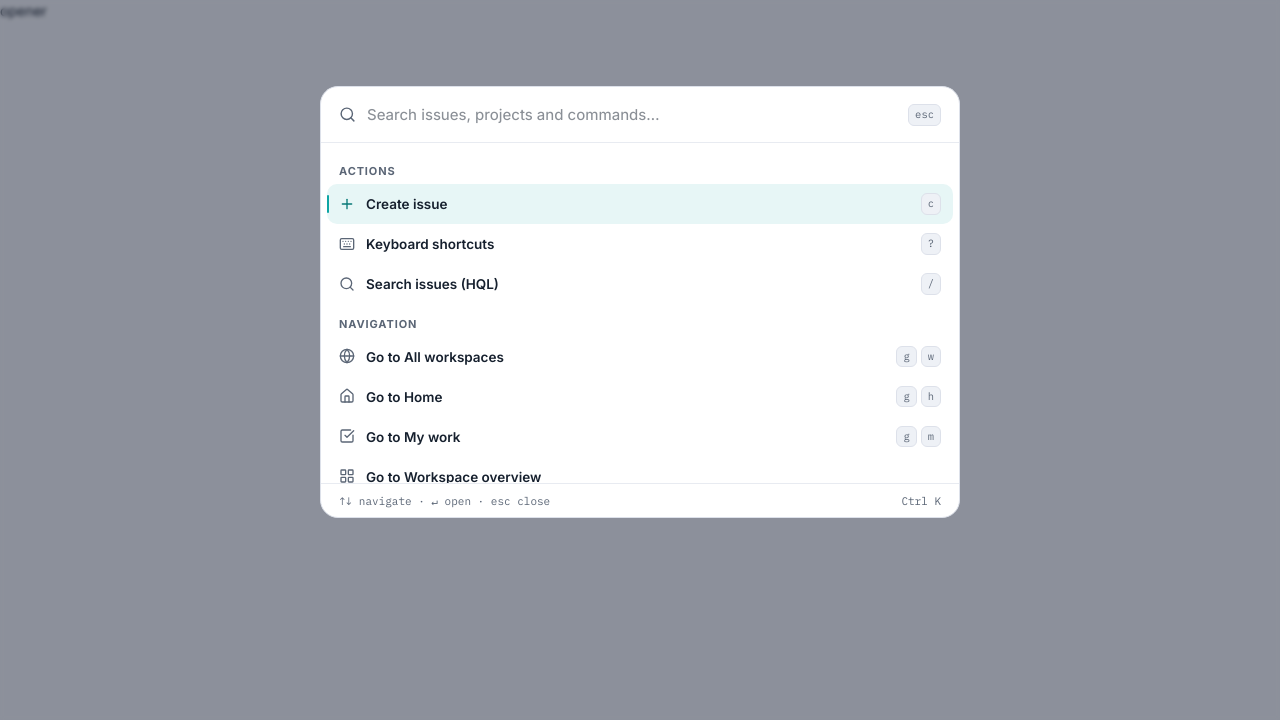
Test case: CommandPalette — handing over to the shortcuts sheet › never stacks the sheet on the open palette, but its own command still opens it
This screenshot has width=1280, height=720.
Click the text "Keyboard shortcuts" at (430, 244), box [366, 236, 494, 252]
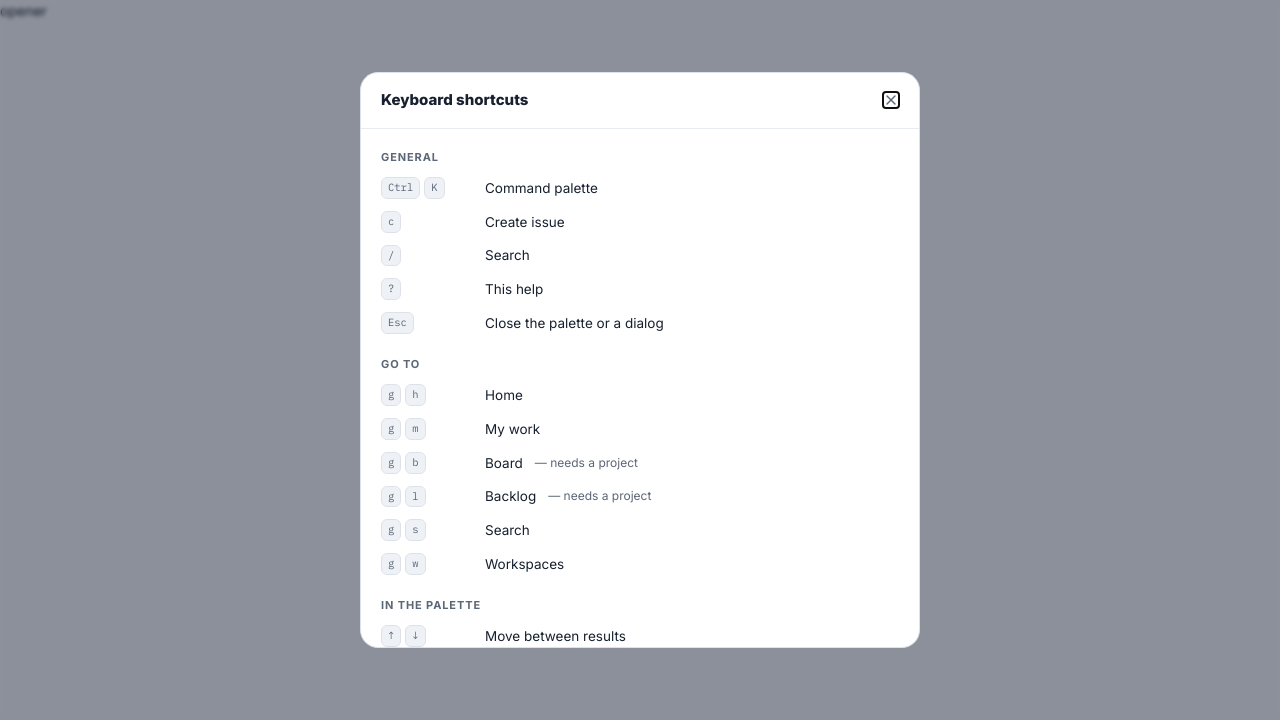
Expected: the dialog "Keyboard shortcuts" is shown, [360, 72, 920, 648]
